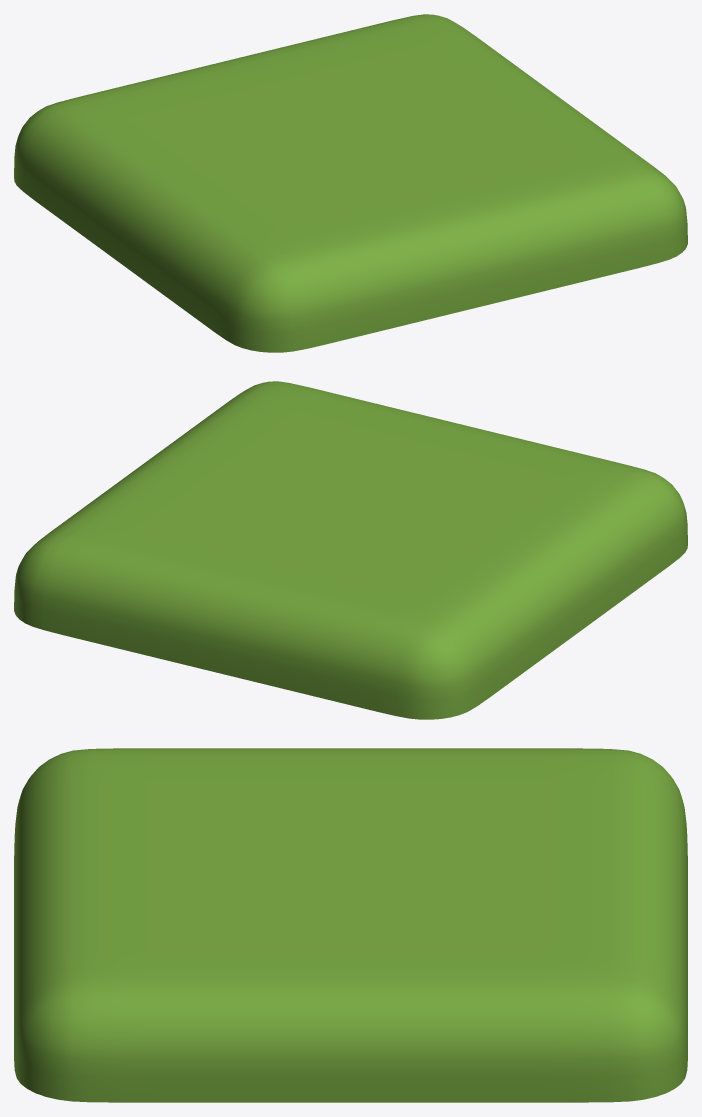
File: SM_TowerBush_01_Top.fbx
3 views of the same model, one above another, from view 1: azimuth 30°, elevation 25°; view 2: azimuth 150°, elevation 25°; view 3: azimuth 270°, elevation 25° (orthographic). The views are drawn at different scales.
Visible parts, largest first — view 1: polySurface2; view 2: polySurface2; view 3: polySurface2.
Part boxes in pixels (x1,y1,x2,y2): polySurface2: [14, 14, 687, 352]; polySurface2: [14, 381, 687, 719]; polySurface2: [14, 748, 687, 1102].
Bounding box in the file's own units: 101 × 101 × 15.58.
